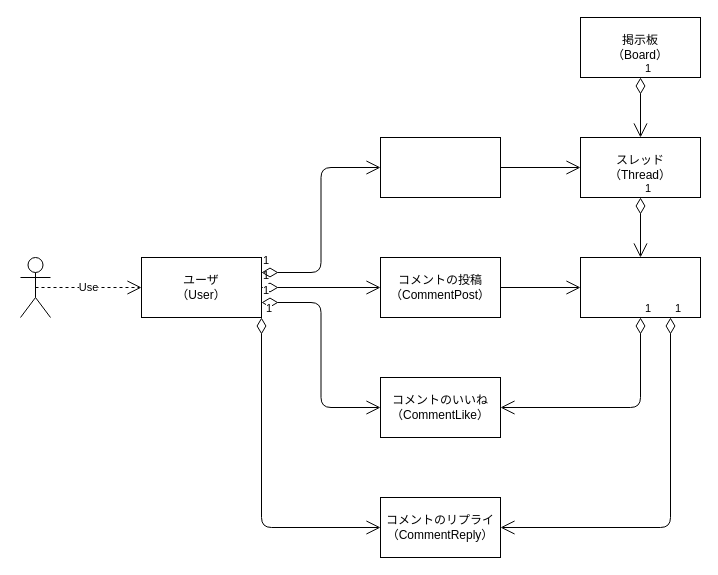
Image size: 718x575. Some labels were removed from this diagram. Here are the shapes that lost their labels. From the top down, the centre of each, then its label:
(440,167): スレッドの作成 （ThreadMake）
(35,287): ユーザ
(640,287): コメント （Comment）
